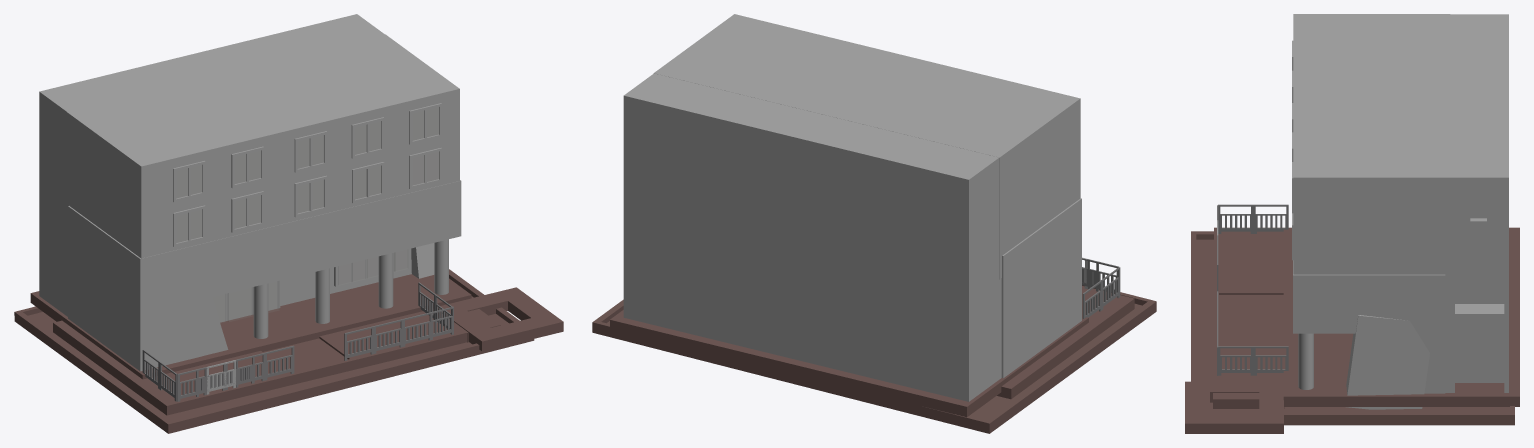
The model's file is ConstructionBulldRight.fbx.
3 views of the same model, side by side, from view 1: azimuth 30°, elevation 25°; view 2: azimuth 150°, elevation 25°; view 3: azimuth 270°, elevation 25° (orthographic). The views are drawn at different scales.
Visible parts, largest first — view 1: pCube25, pCube45, pCube43, pCube13, pPipe1, windowSet, windowSet1, pCube4, pCylinder6, pCylinder3, pCylinder4, pCylinder5 (+29 smaller); view 2: pCube25, pCube43, pCube13, pCube45; view 3: pCube25, pCube45, pCube13, pCube43, pCube6, pPipe1, pCylinder4, pCube46, fence11, fence, fence10, fence1.
Boxes of the visible parts, x1,y1,x2,y2 form: pCube25: [39, 14, 461, 371]; pCube45: [53, 309, 467, 415]; pCube43: [14, 269, 534, 433]; pCube13: [30, 274, 471, 379]; pPipe1: [438, 287, 563, 351]; windowSet: [212, 280, 280, 322]; windowSet1: [334, 249, 409, 286]; pCube4: [202, 297, 228, 355]; pCylinder6: [378, 253, 393, 308]; pCylinder3: [253, 283, 268, 338]; pCylinder4: [434, 239, 448, 294]; pCylinder5: [315, 268, 329, 323]; pCube25: [623, 14, 1081, 401]; pCube43: [592, 285, 1156, 433]; pCube13: [610, 310, 1088, 417]; pCube45: [997, 286, 1134, 399]; pCube25: [1293, 14, 1508, 393]; pCube45: [1214, 227, 1283, 381]; pCube13: [1283, 227, 1519, 406]; pCube43: [1191, 231, 1514, 425]; pCube6: [1346, 315, 1429, 409]; pPipe1: [1185, 381, 1283, 433]; pCylinder4: [1298, 333, 1313, 389]; pCube46: [1213, 393, 1284, 408]; fence11: [1253, 346, 1288, 375]; fence: [1253, 204, 1288, 233]; fence10: [1218, 346, 1253, 375]; fence1: [1218, 204, 1253, 233].
Size of the model in its own units: 28.8 by 15.9 by 20.21.
